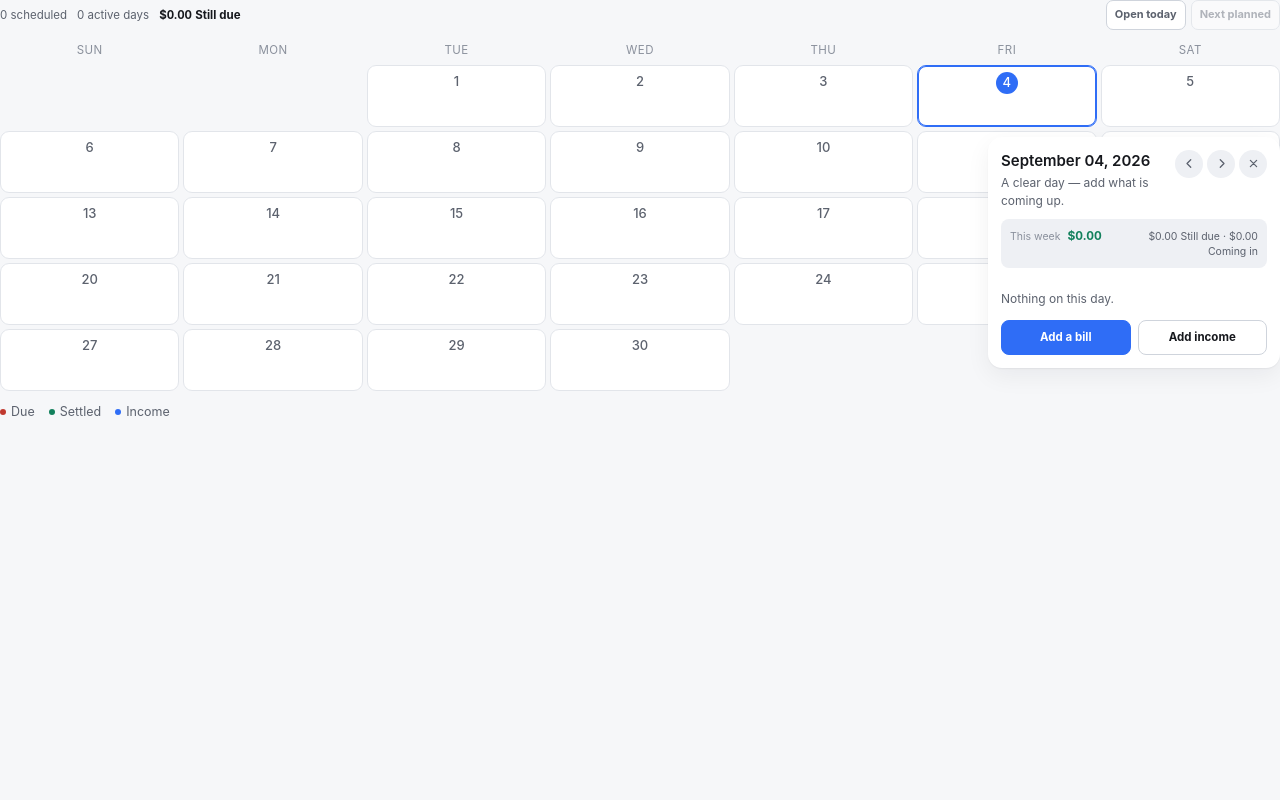
CalendarView day card › supports quick day navigation by keyboard and popover controls
The image size is (1280, 800).
Click the button named "September 05, 2026". click: (1190, 96)
box: [1101,65,1279,127]
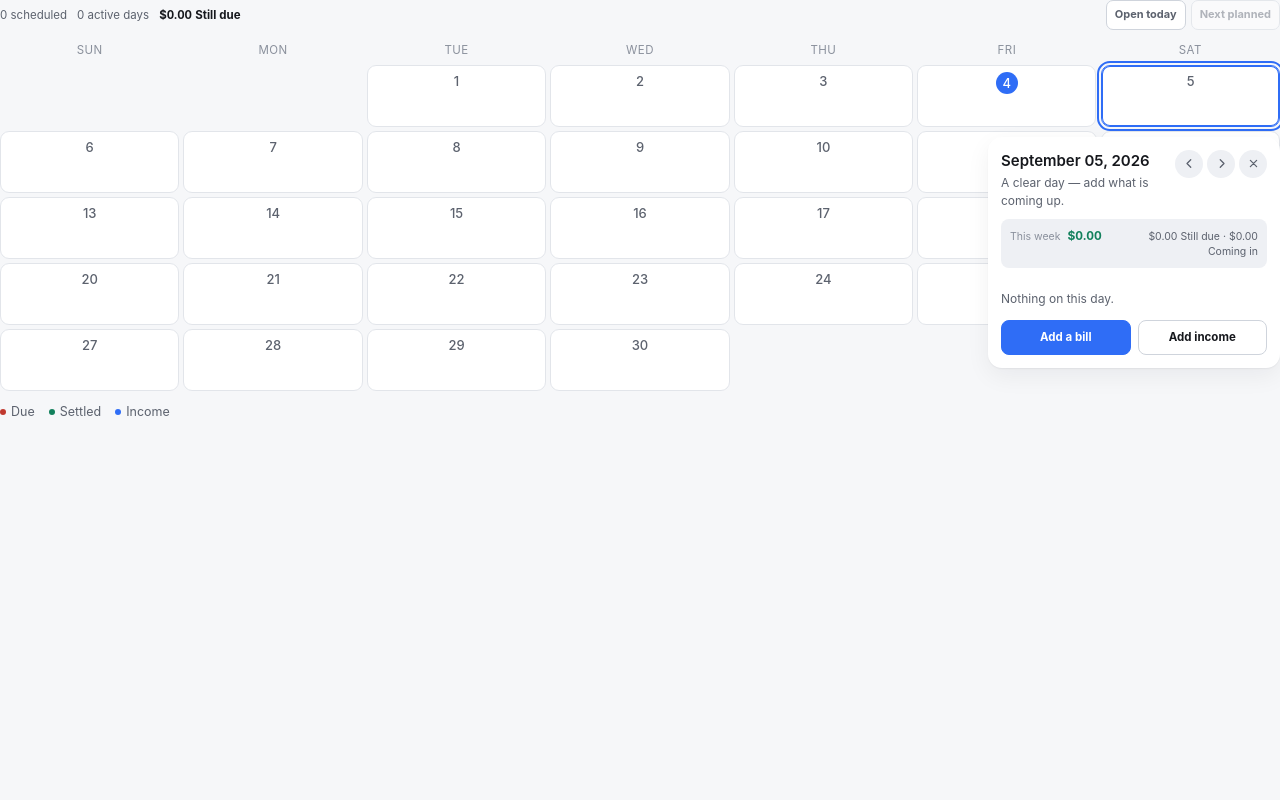
Press Arrowright
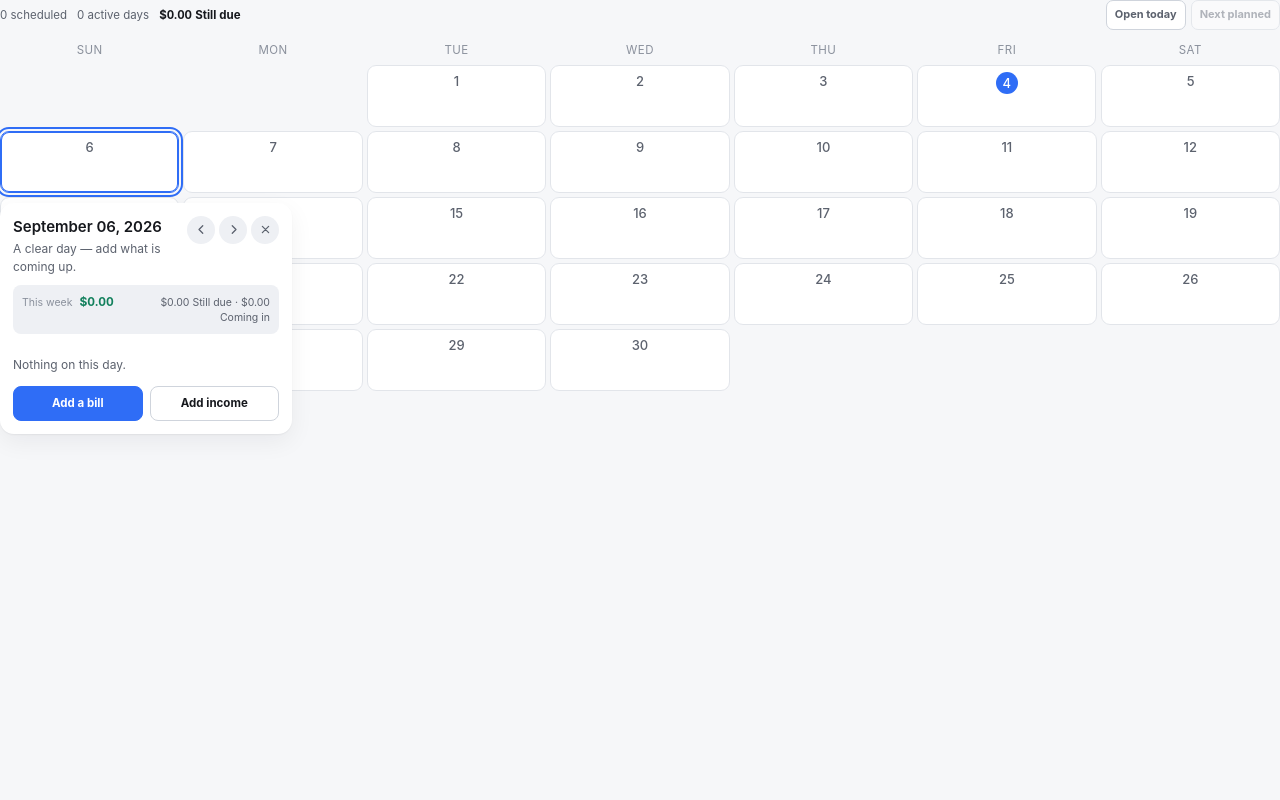
Check: the dialog "September 06, 2026" is shown, box [0,203,292,434]
Click the button named "Previous day". click: (201, 230)
box: [187,216,215,244]
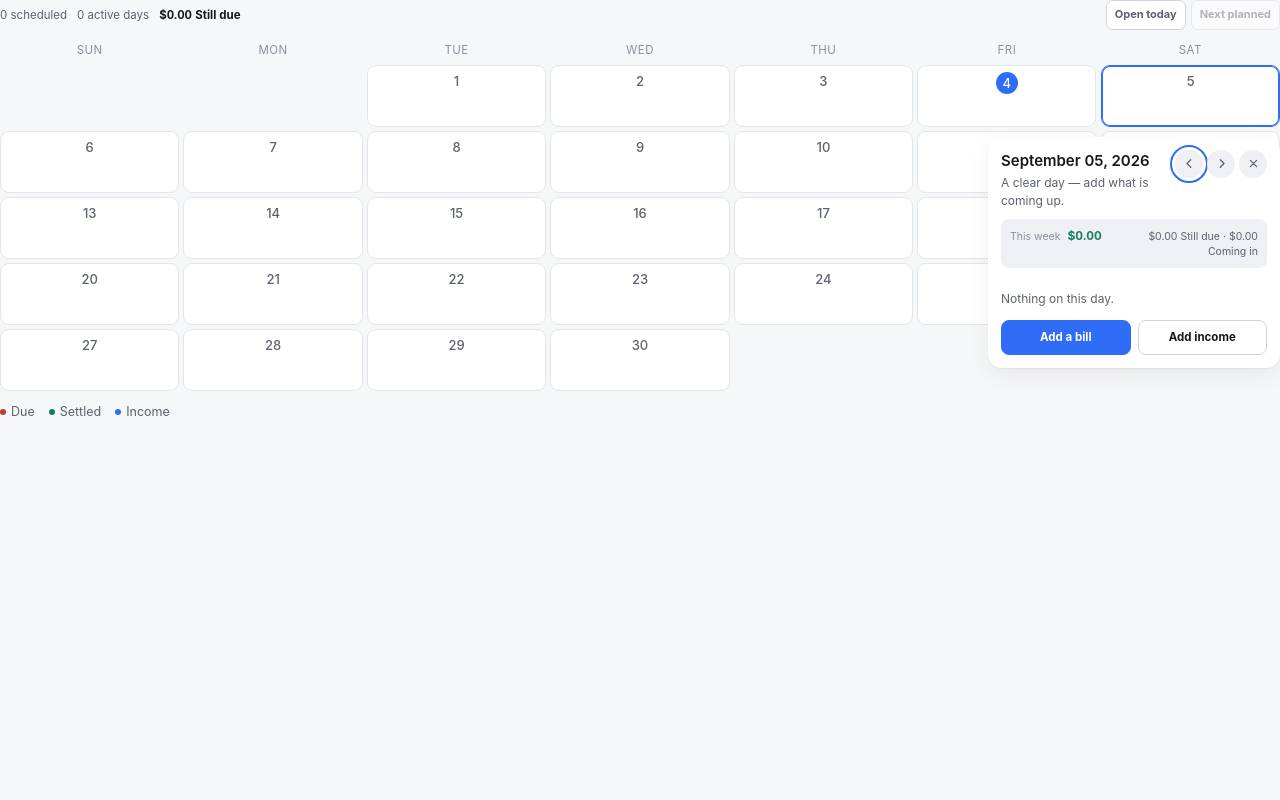
Check: the dialog "September 05, 2026" is shown, box [988,137,1279,368]
Click the button named "Next day". click: (1221, 164)
box: [1207,150,1235,178]
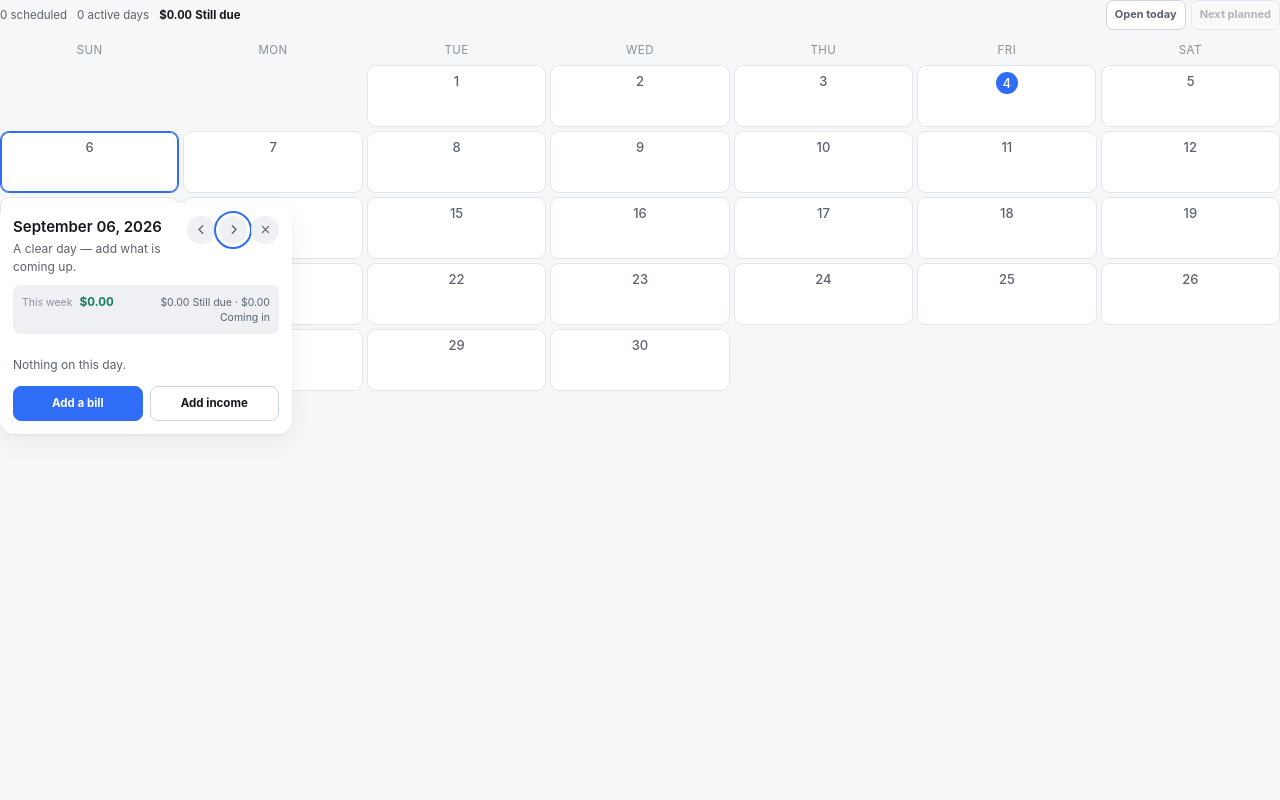
Check: the dialog "September 06, 2026" is shown, box [0,203,292,434]
